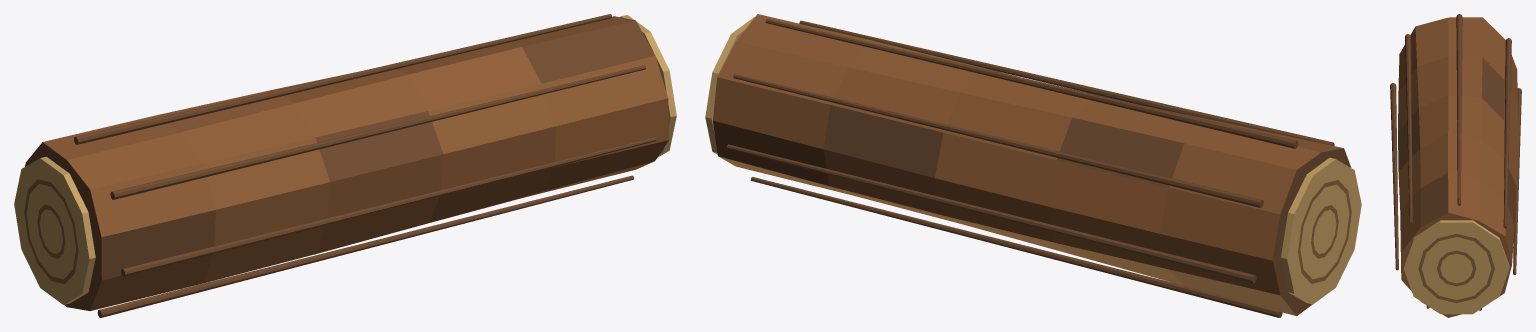
File: source.glb
3 views of the same model, side by side, from view 1: azimuth 30°, elevation 25°; view 2: azimuth 150°, elevation 25°; view 3: azimuth 270°, elevation 25° (orthographic). The views are drawn at different scales.
Parts seen in each view (by area): view 1: item-log.001; view 2: item-log.001; view 3: item-log.001.
Boxes of the visible parts, box(x1,y1,x2,y2) form: item-log.001: box(14, 14, 676, 317); item-log.001: box(705, 14, 1361, 317); item-log.001: box(1390, 14, 1521, 317).
Bounding box in the file's own units: 1.4 × 0.3786 × 0.3842.
